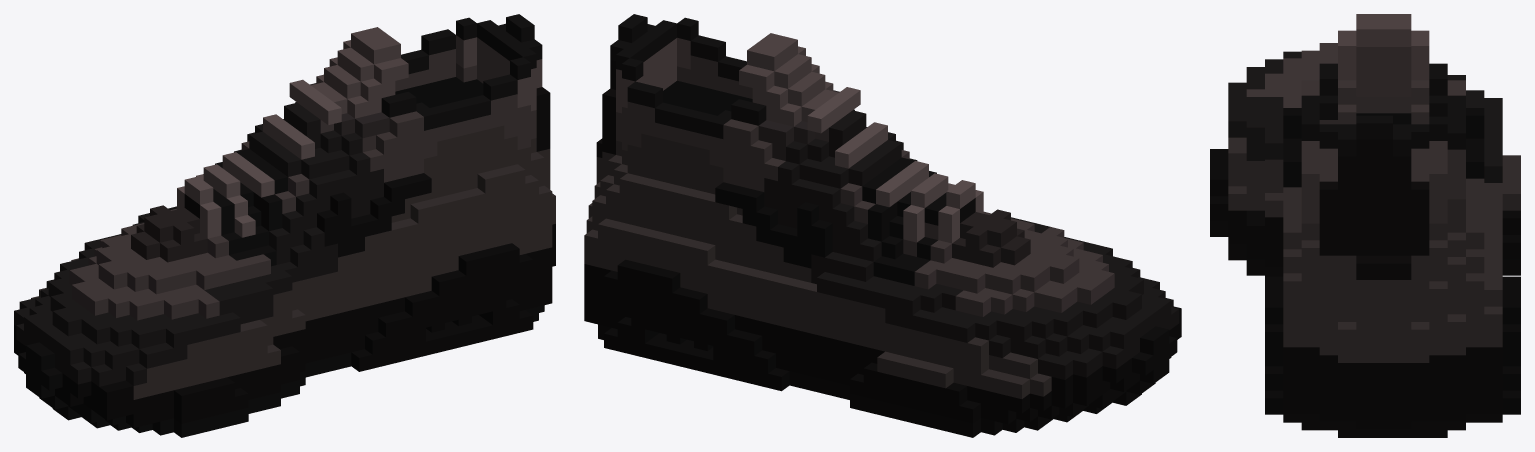
File: Dark Dimension.fbx
3 renders of one model, left to right at view 1: azimuth 30°, elevation 25°; view 2: azimuth 150°, elevation 25°; view 3: azimuth 270°, elevation 25°, orthographic. The views are drawn at different scales.
Visible parts, largest first — view 1: Untitled; view 2: Untitled; view 3: Untitled.
Boxes of the visible parts, x1,y1,x2,y2 form: Untitled: [14, 14, 555, 437]; Untitled: [584, 14, 1181, 437]; Untitled: [1210, 14, 1520, 437].
Size of the model in its own units: 390 by 200 by 170.
